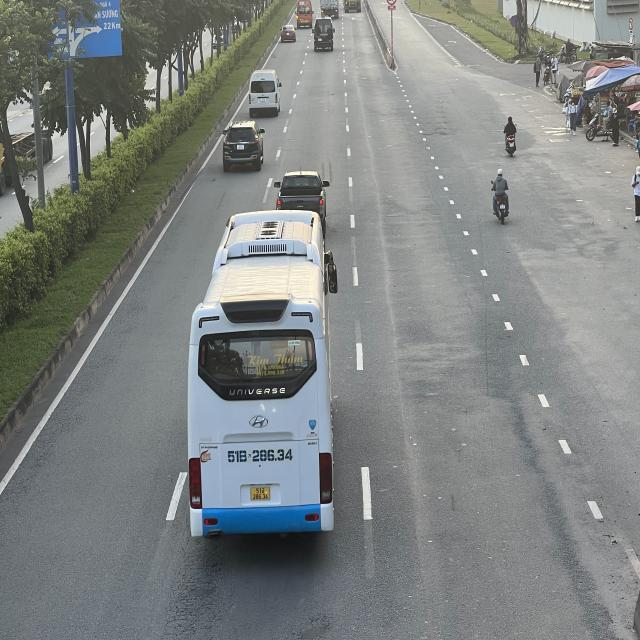car: (275, 170, 330, 218), (222, 120, 266, 169), (280, 24, 296, 44)
coach: (188, 213, 338, 538)
van: (248, 68, 281, 115), (312, 15, 335, 50), (295, 0, 314, 27)
